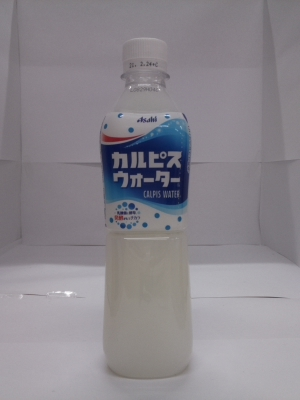calpis: (84, 30, 207, 389)
